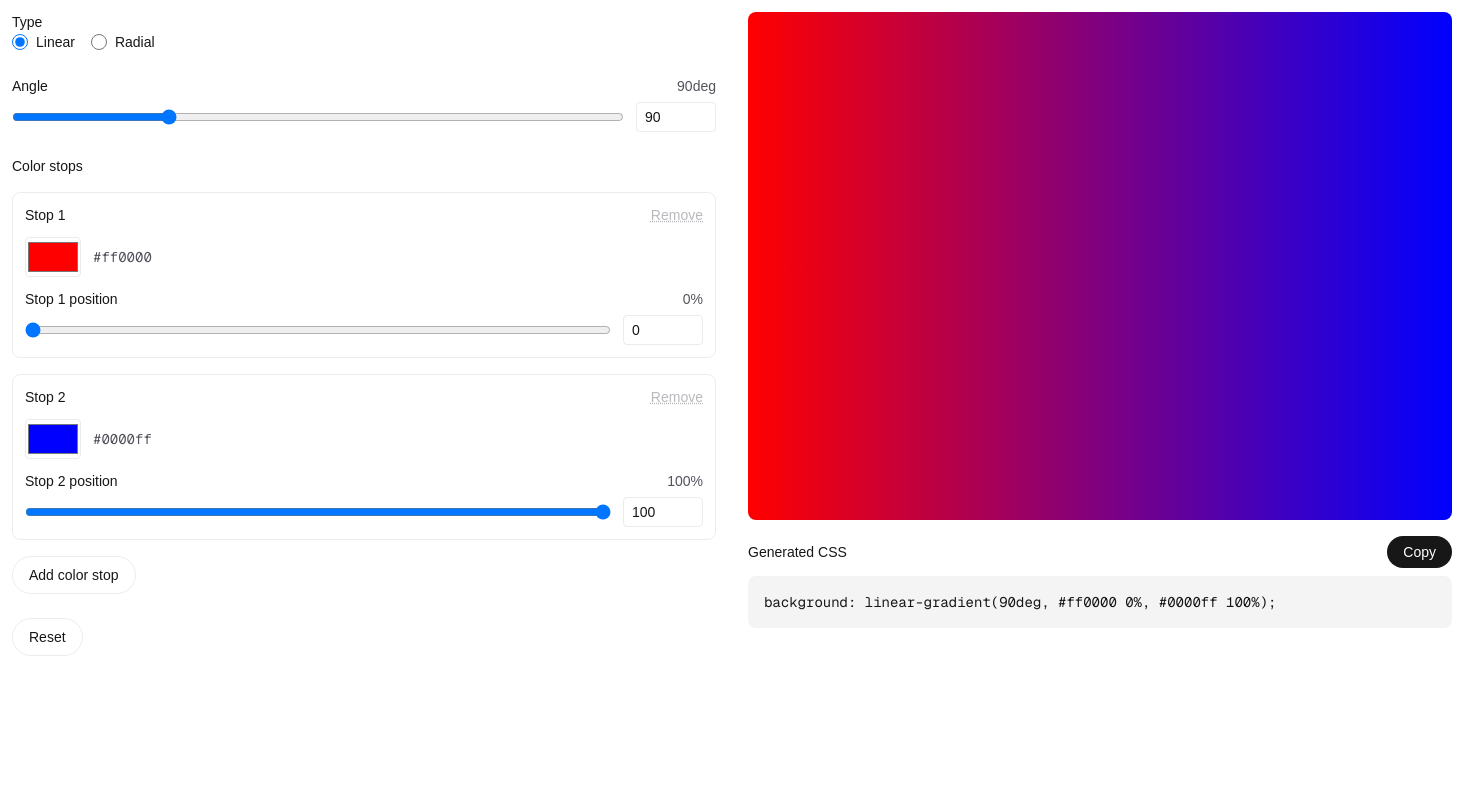
it: GradientGenerator › removes a stop after adding a third
Click the button "Add color stop": (74, 575) 12,556 -> 136,594
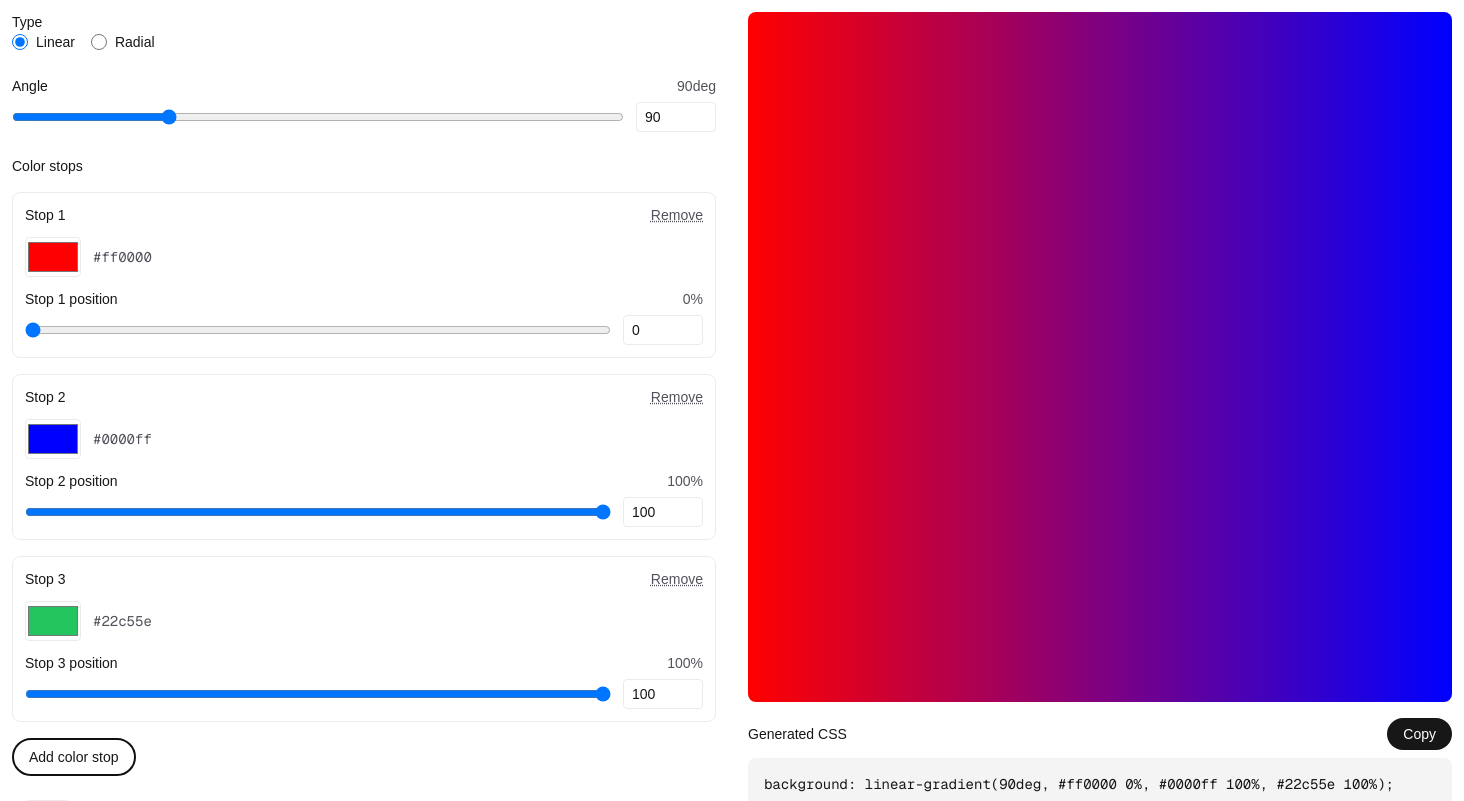
Now the button with aria-label "Remove stop 3" is enabled
Click the button with aria-label "Remove stop 3": (677, 579) 651,569 -> 703,589
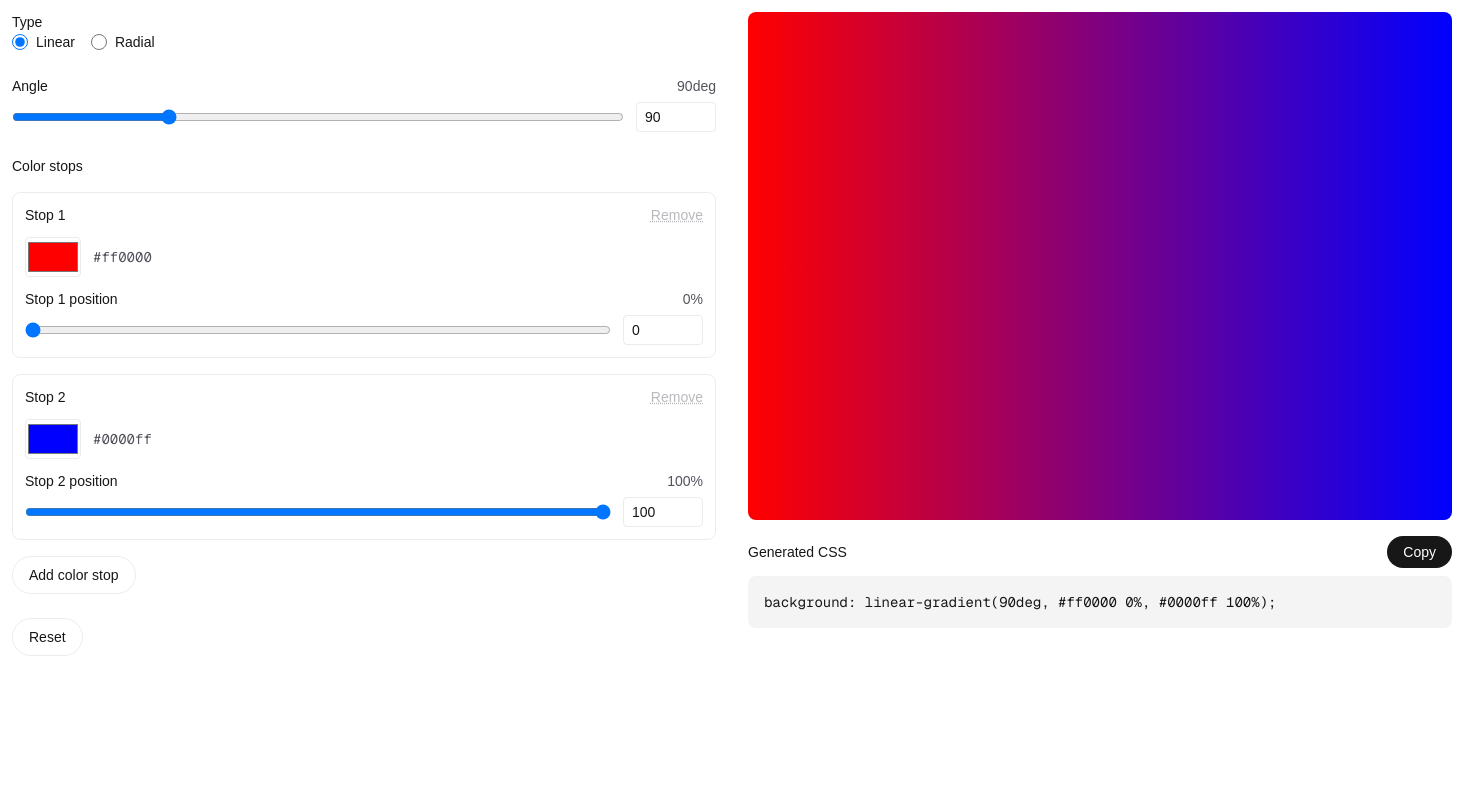
Now the label labelled "Stop 3 position" is gone
